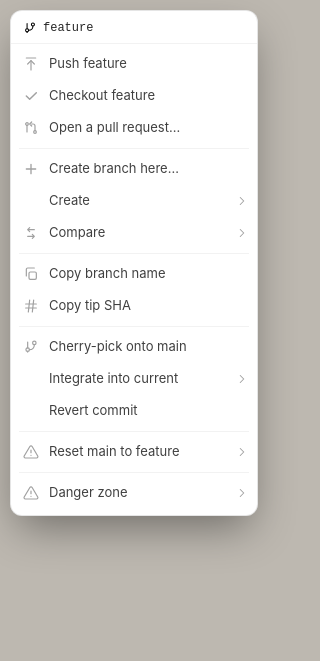
Test: BranchContextMenu › mirrors the commit menu: Cherry-pick/Revert flat, branch integrate verbs in a fan
Expected: the menu item "Cherry-pick onto main" is shown, [11,331,257,363]
Expected: the menu item "Revert commit" is shown, [11,395,257,427]
Click the menu item "Integrate into current".
click(134, 379)  # box [11,363,257,395]
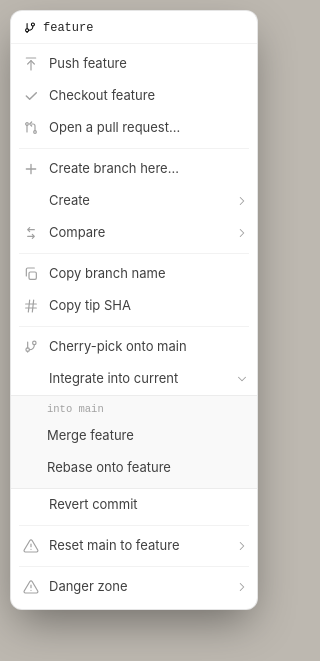
Expected: the menu item "Merge feature" is shown, [11,420,257,452]
Expected: the menu item "Rebase onto feature" is shown, [11,452,257,484]
Click the menu item "Compare".
click(134, 233)  # box [11,217,257,249]
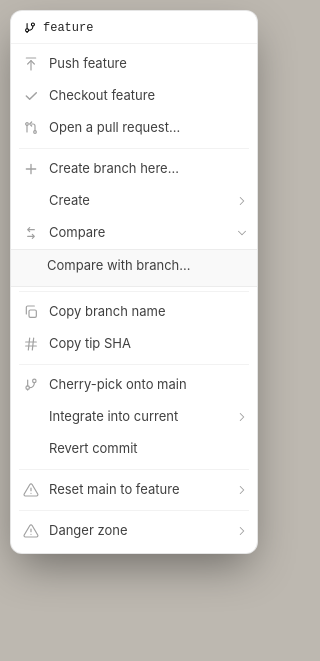
Expected: the menu item "Merge feature" is gone
Expected: the menu item "Compare with branch…" is shown, [11,250,257,282]
